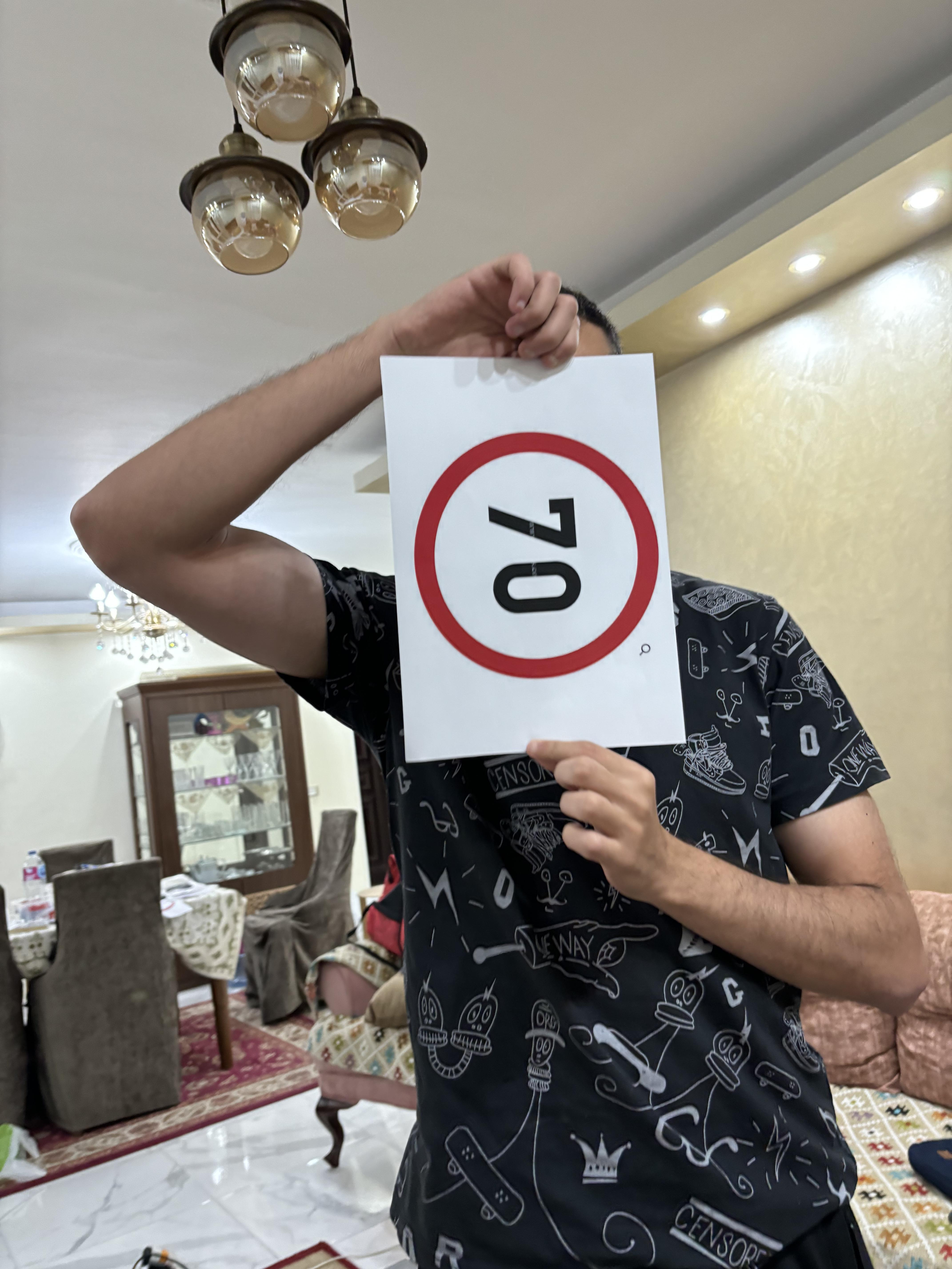70-Speed: (410, 429, 667, 682)
